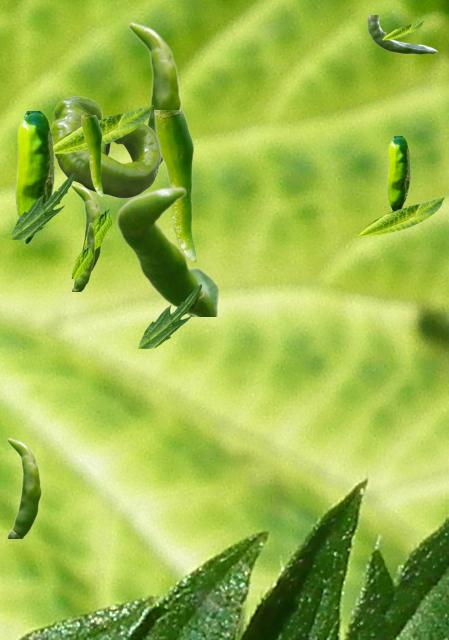green_chili: (116, 186, 217, 315), (51, 96, 160, 197), (127, 21, 181, 166), (154, 110, 195, 261), (15, 111, 53, 243), (6, 437, 41, 537), (70, 183, 103, 277), (367, 15, 436, 53), (81, 115, 102, 196), (387, 136, 409, 211), (72, 222, 94, 290)
